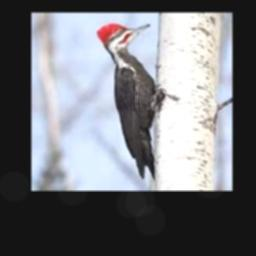Woodpecker: (97, 24, 163, 181)
